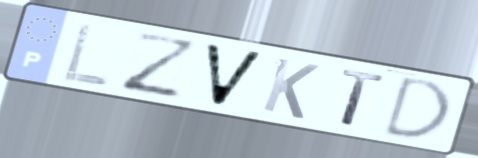D: (378, 74, 454, 143)
K: (258, 55, 323, 123)
L: (59, 20, 113, 89)
T: (338, 66, 389, 131)
V: (201, 40, 268, 111)
Z: (116, 29, 203, 101)
